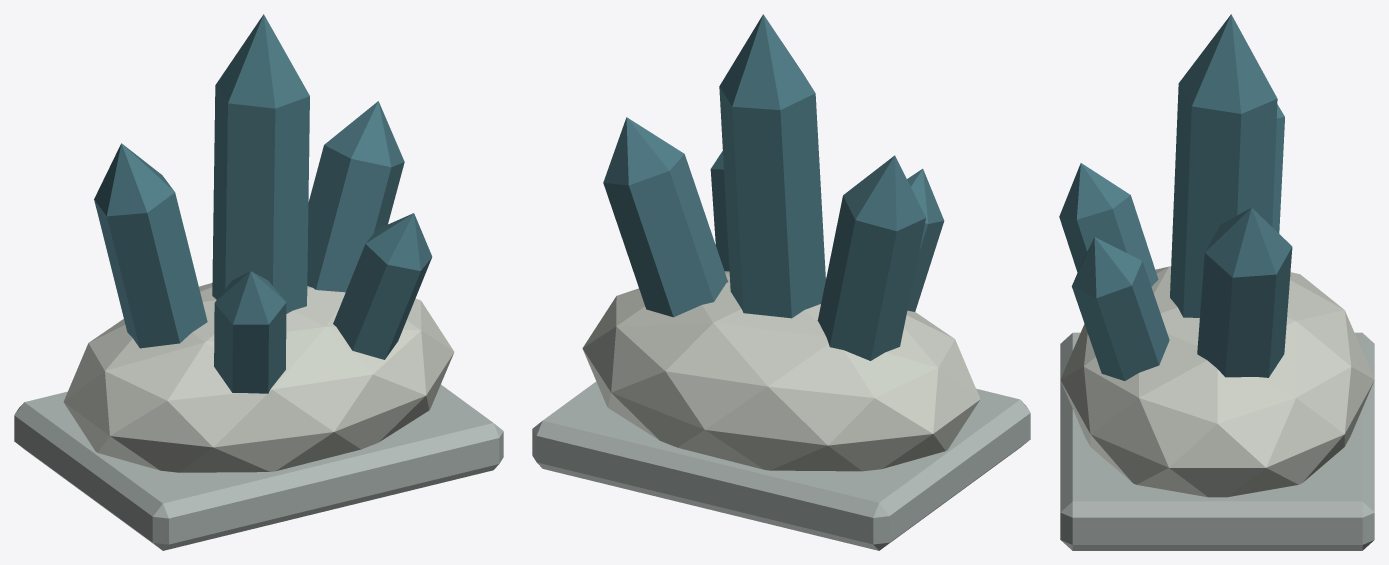
3 views of the same model, side by side, from view 1: azimuth 30°, elevation 25°; view 2: azimuth 150°, elevation 25°; view 3: azimuth 270°, elevation 25° (orthographic). The views are drawn at different scales.
Visible parts, largest first — view 1: museum-crystal-cluster-01; view 2: museum-crystal-cluster-01; view 3: museum-crystal-cluster-01.
Boxes of the visible parts, x1=… form: museum-crystal-cluster-01: x1=14, y1=14, x2=503, y2=550; museum-crystal-cluster-01: x1=532, y1=14, x2=1030, y2=550; museum-crystal-cluster-01: x1=1059, y1=14, x2=1374, y2=550.
Bounding box in the file's own units: 0.62 × 0.74 × 0.4617.
